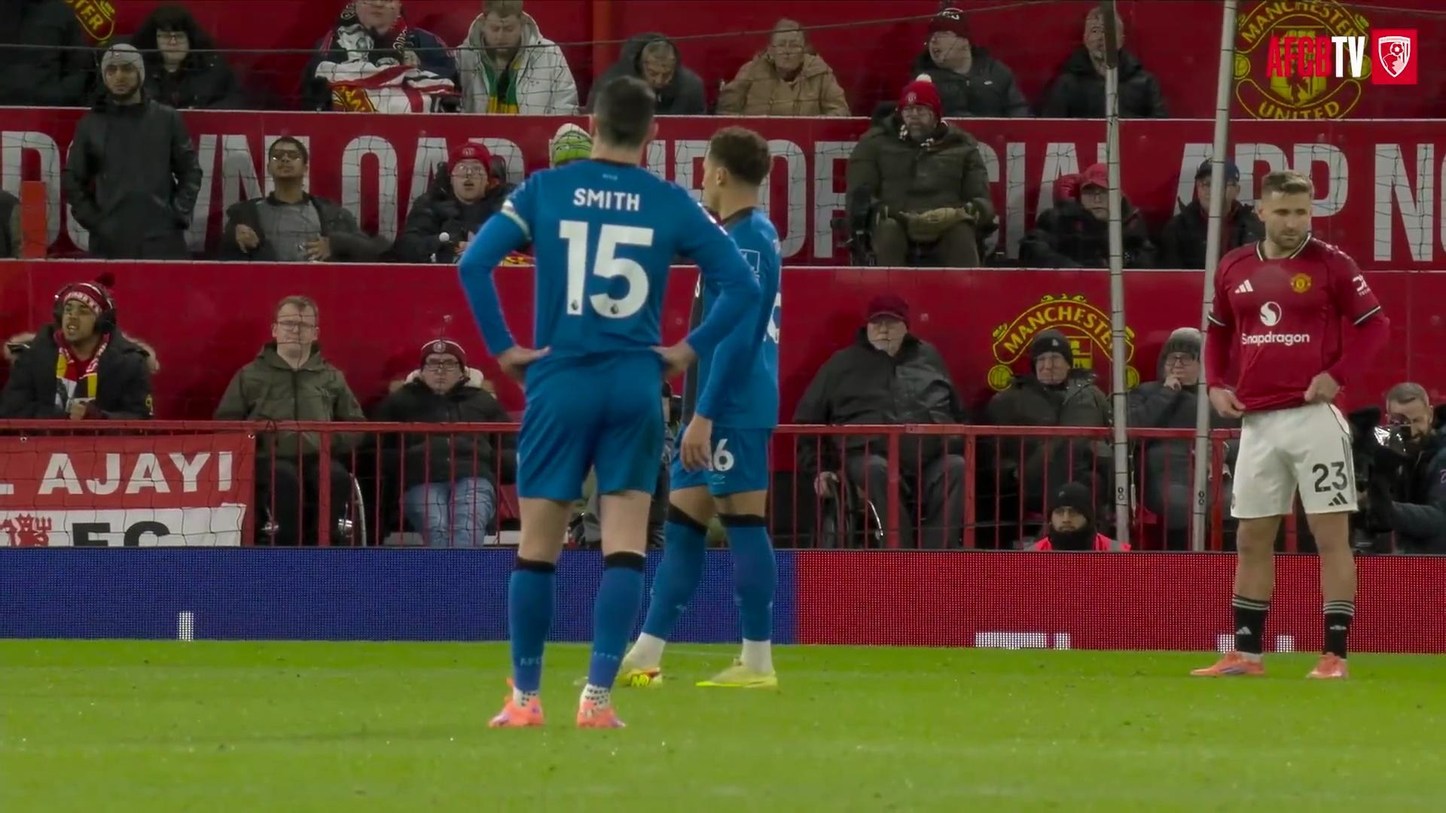player: (459, 79, 760, 727), (1192, 172, 1388, 678), (619, 128, 781, 687)
